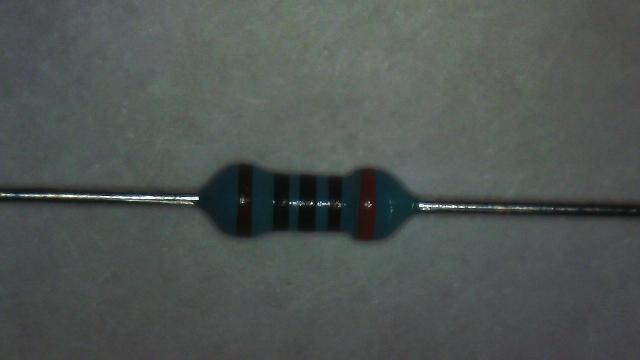black: (298, 176, 316, 230), (272, 174, 289, 229), (327, 177, 342, 231)
brown: (236, 164, 252, 236)
orange: (358, 168, 376, 240)
resistor: (196, 147, 419, 251)
